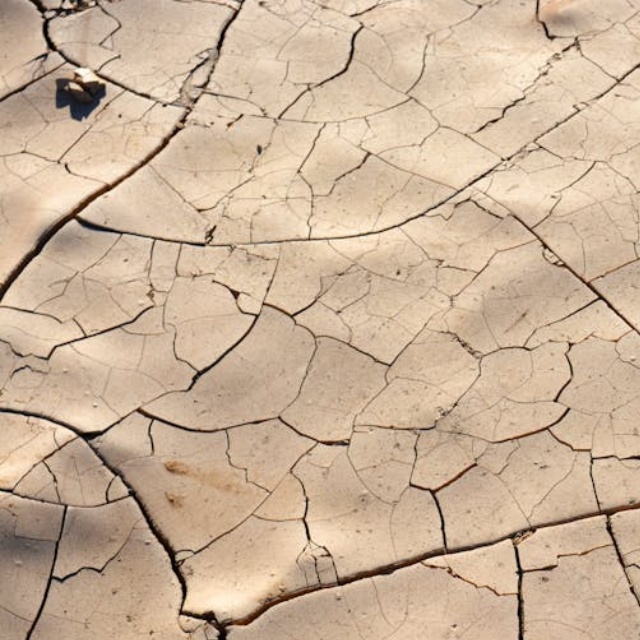细微裂纹: (423, 0, 640, 149), (283, 0, 392, 111)
网状裂隙: (0, 101, 640, 640)
